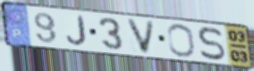3: (98, 17, 125, 52)
9: (33, 12, 58, 44)
J: (65, 15, 89, 47)
O: (165, 23, 197, 59)
S: (197, 26, 227, 62)
V: (125, 17, 157, 56)
